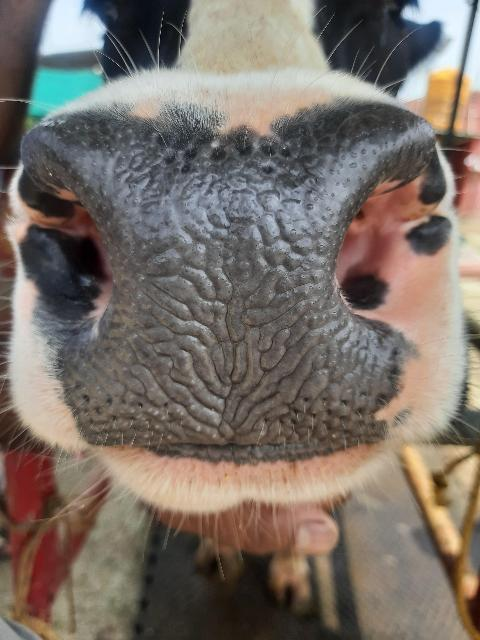Muzzle: (98, 158, 354, 442)
